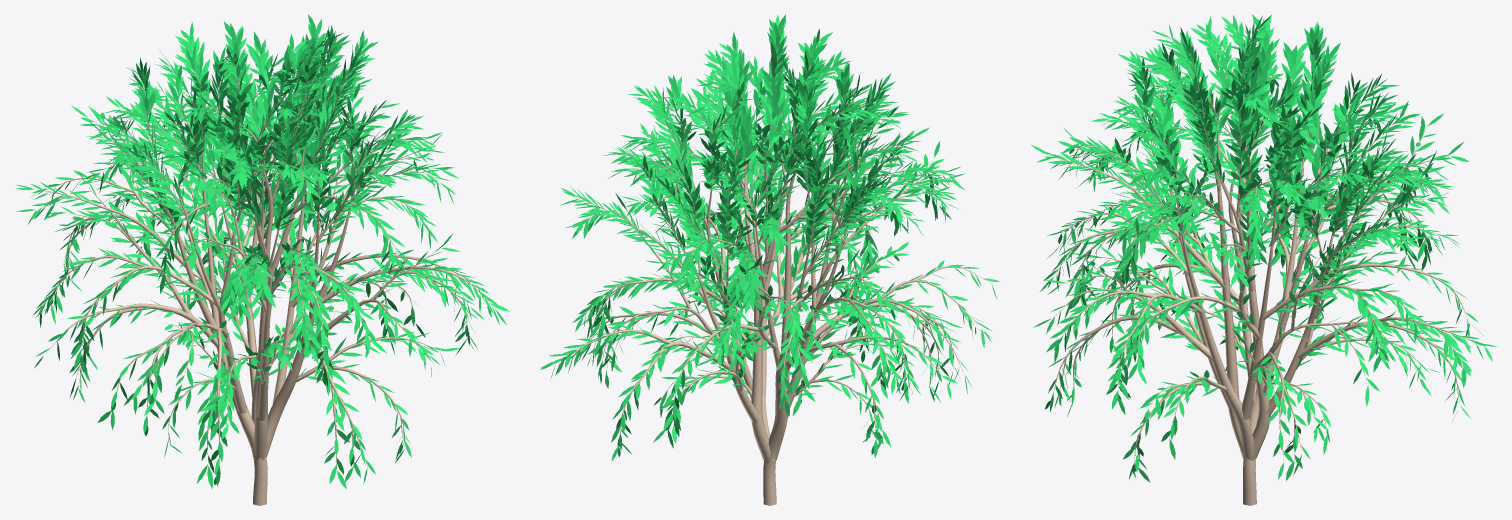
Rendered from Birch.glb.
3 views of the same model, side by side, from view 1: azimuth 30°, elevation 25°; view 2: azimuth 150°, elevation 25°; view 3: azimuth 270°, elevation 25° (orthographic). The views are drawn at different scales.
Visible parts, largest first — view 1: leaves, tree; view 2: leaves, tree; view 3: leaves, tree.
Part boxes in pixels (x1=…): leaves: x1=16, y1=14, x2=509, y2=489; tree: x1=36, y1=48, x2=494, y2=505; leaves: x1=540, y1=14, x2=1000, y2=461; tree: x1=558, y1=45, x2=986, y2=505; leaves: x1=1031, y1=14, x2=1496, y2=482; tree: x1=1051, y1=33, x2=1471, y2=505.
Bounding box in the file's own units: 18.98 × 22.56 × 19.72.
